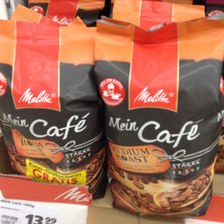coffee: (93, 14, 224, 214), (1, 17, 106, 196)
